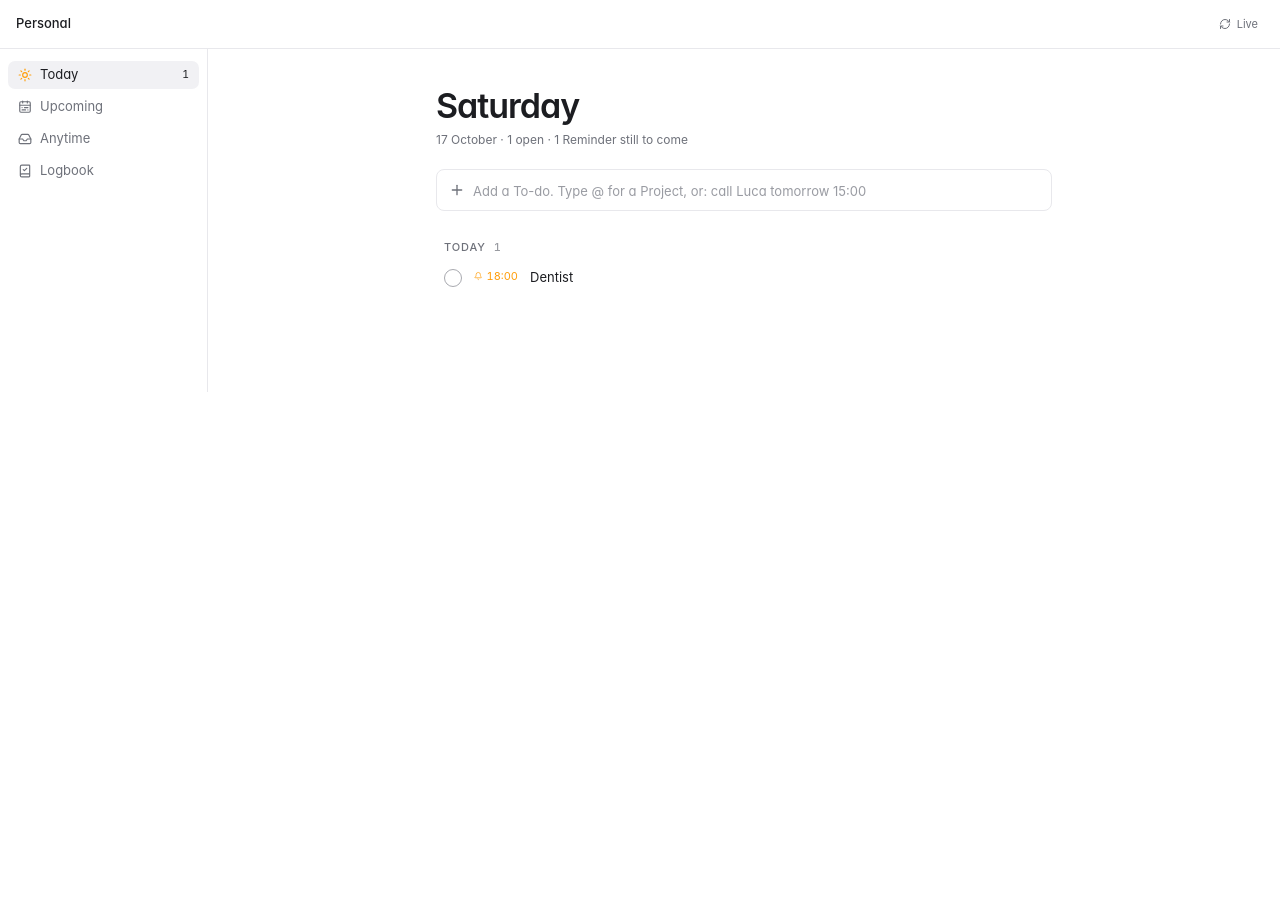
Test: the Reminder picker › removes a Reminder, and shows a refusal under the row
This screenshot has width=1280, height=900.
Click the button named "Change Reminder (Reminder at 18:00)": coordinates (496, 278) x1=474 y1=264 x2=518 y2=291
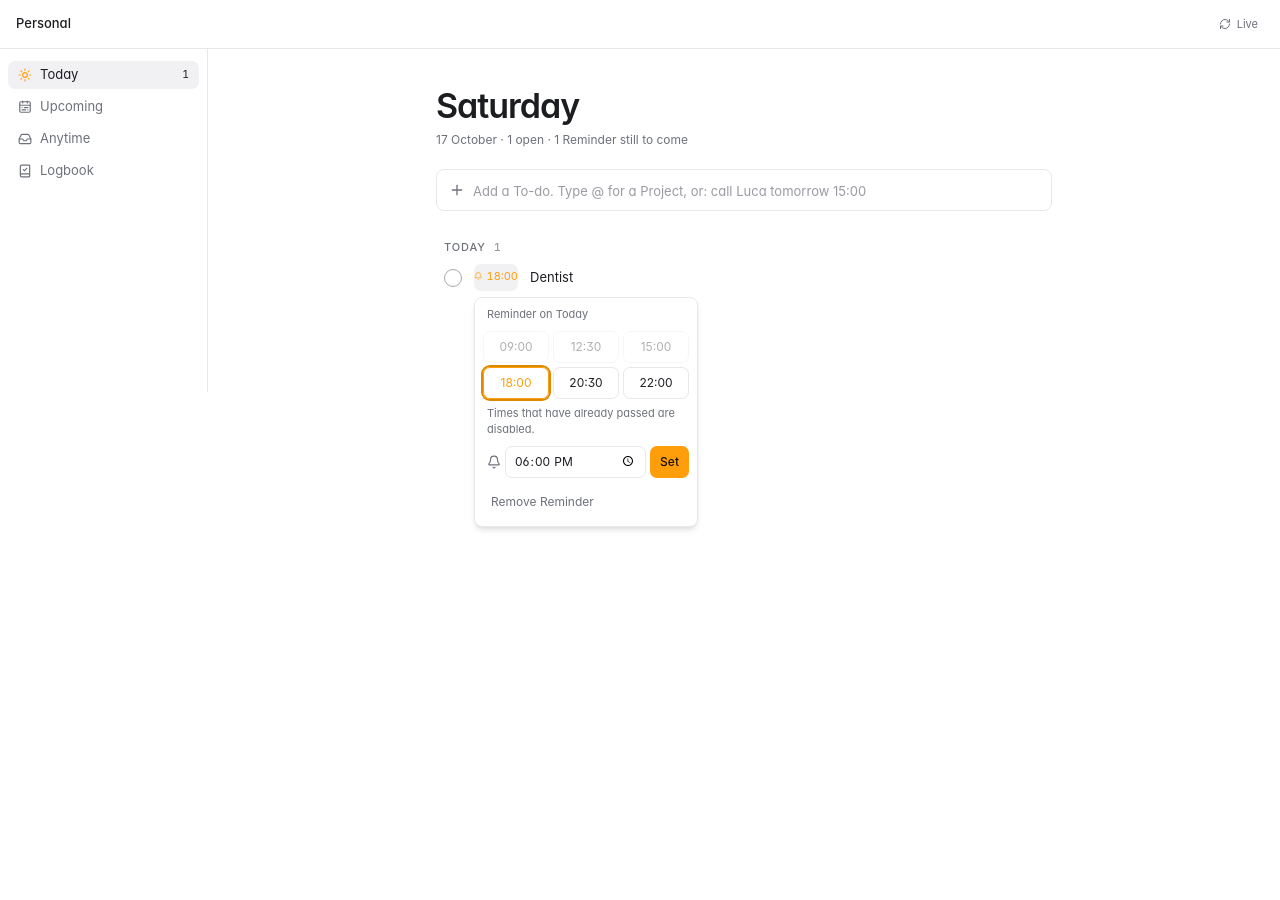
Click the button "Remove Reminder": coordinates (586, 502) x1=483 y1=486 x2=689 y2=518
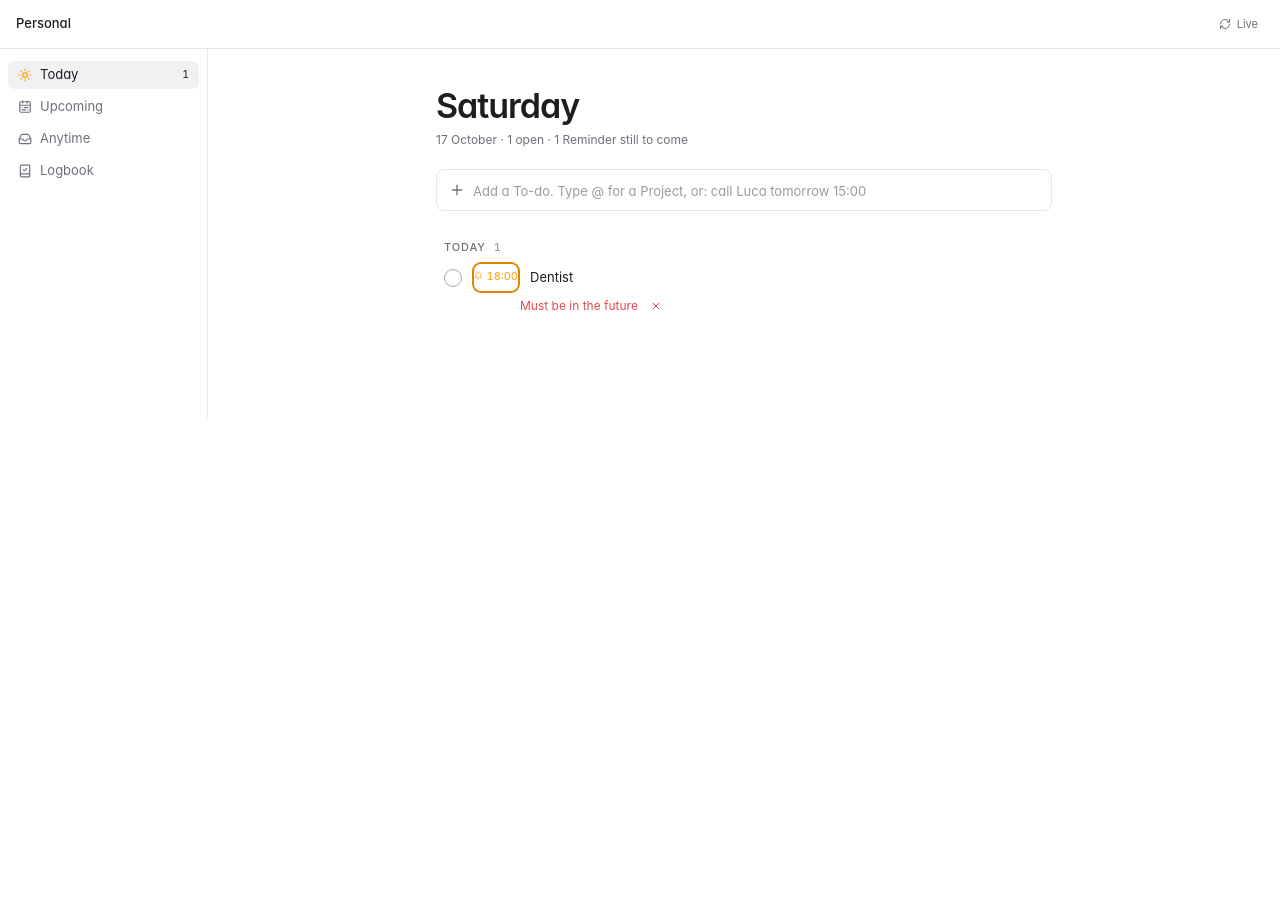
Result: the message reads "Must be in the future" at x1=520 y1=298 x2=638 y2=312
